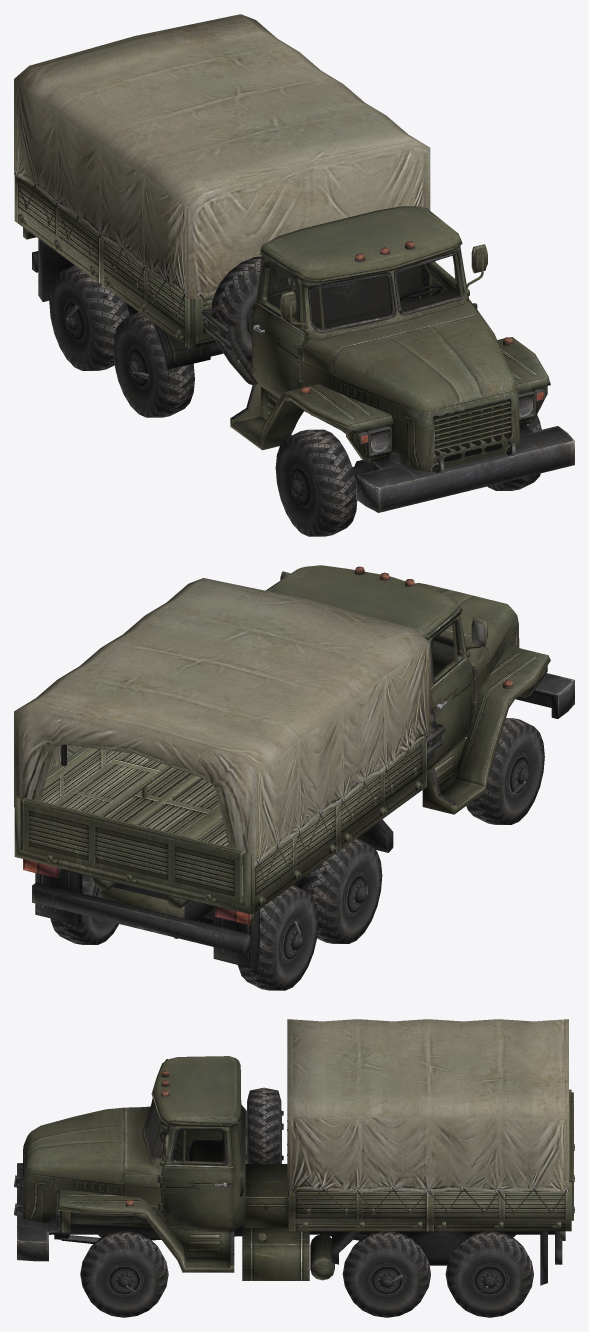
File: mil_truck.gltf
3 renders of one model, top to bottom at view 1: azimuth 30°, elevation 25°; view 2: azimuth 150°, elevation 25°; view 3: azimuth 270°, elevation 25°, orthographic. The views are drawn at different scales.
Visible parts, largest first — view 1: ural4320_0; view 2: ural4320_0; view 3: ural4320_0.
Boxes of the visible parts, bbox=[...] form: ural4320_0: bbox=[14, 14, 574, 536]; ural4320_0: bbox=[14, 565, 574, 990]; ural4320_0: bbox=[14, 1019, 574, 1317].
Size of the model in its own units: 3.06 by 3.27 by 7.57.
1 material, 1 textured.
